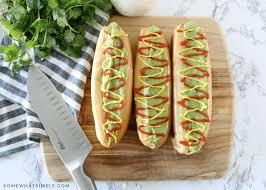Completos: (172, 18, 215, 168), (132, 24, 172, 159), (91, 20, 132, 150)
